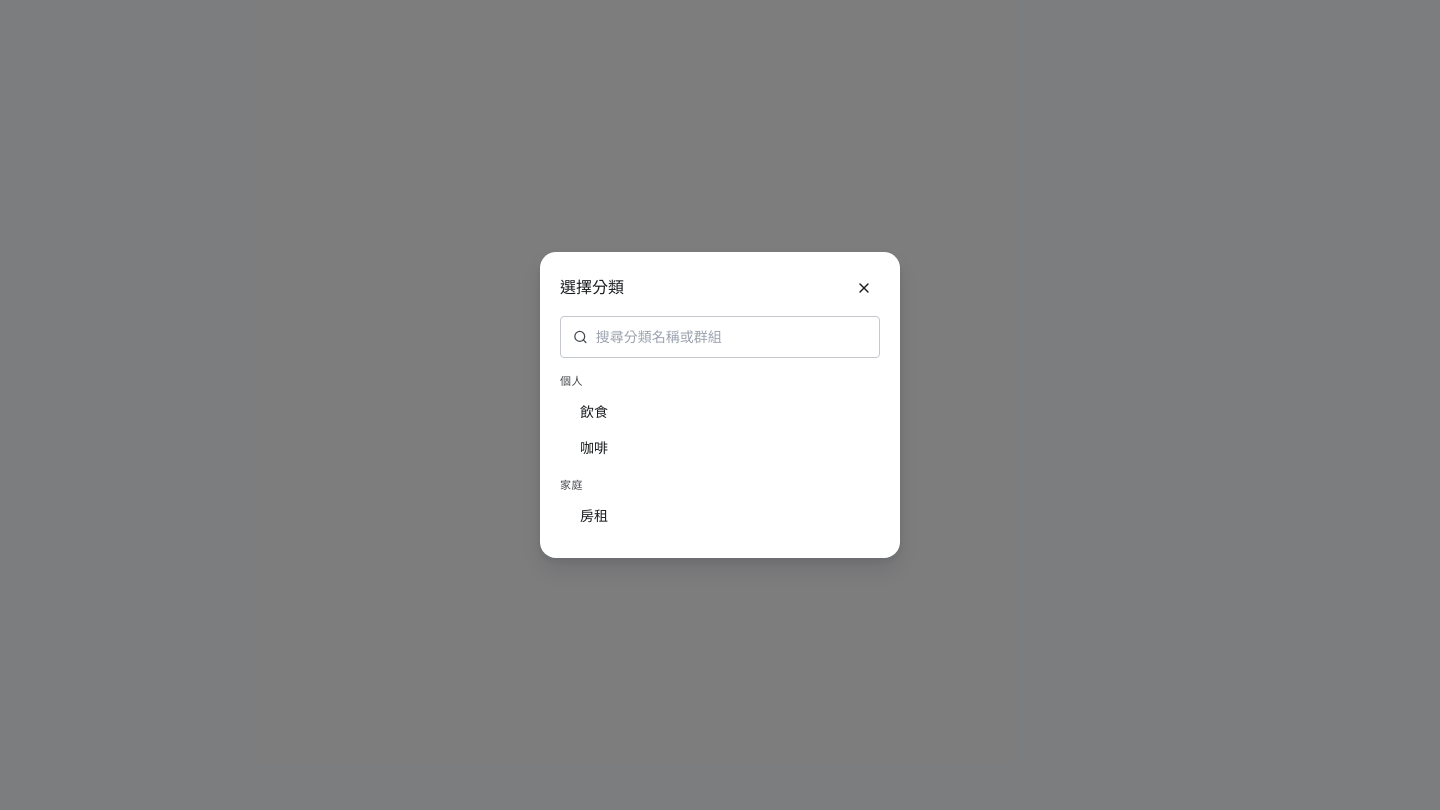
Test case: CategoryPickerModal › shows empty state when filter matches nothing
Type "zzzzz" into the field labelled "搜尋分類" at x=731, y=337, box 596,317 -> 867,357
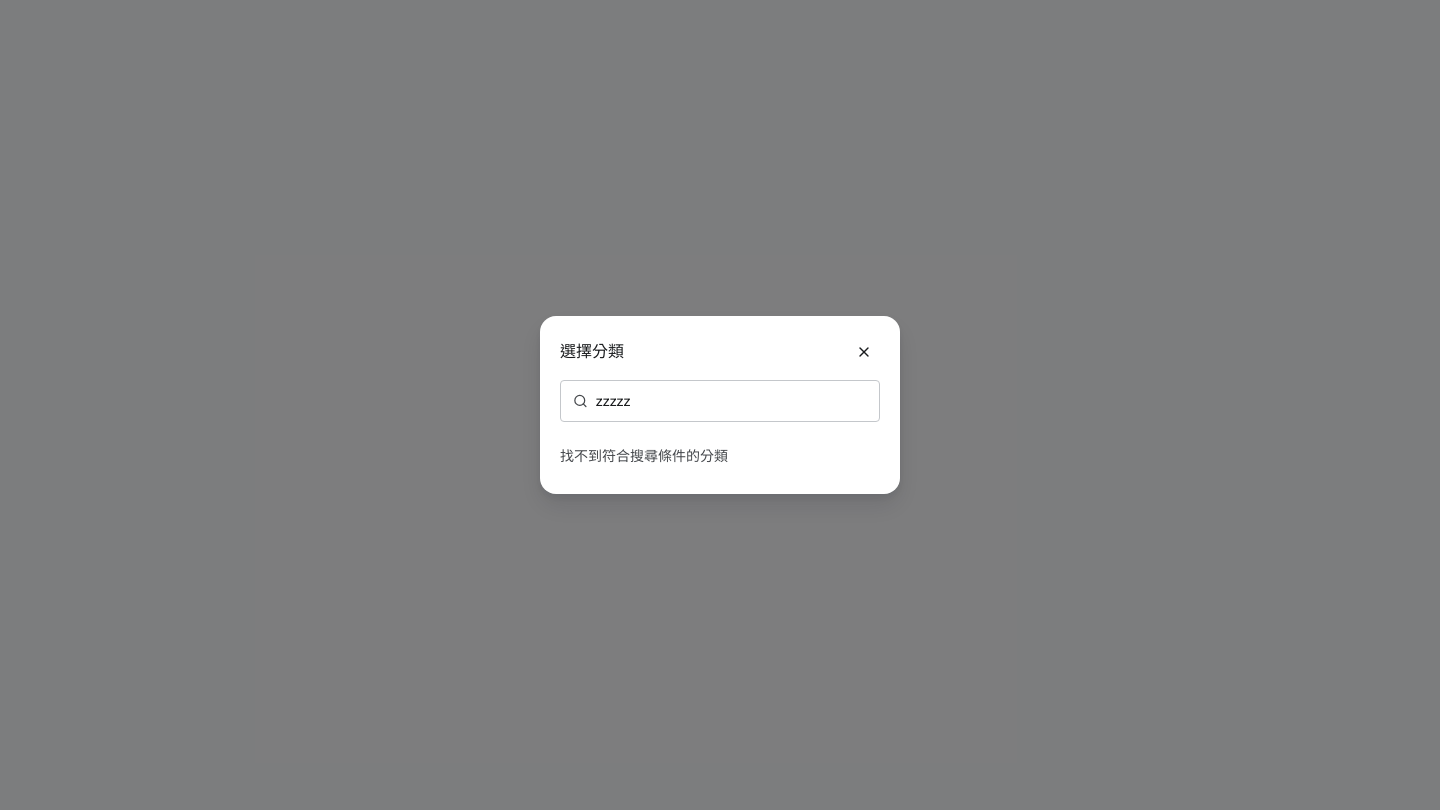
Check: the text "找不到符合搜尋條件的分類" is shown, box 560,448 -> 728,464
